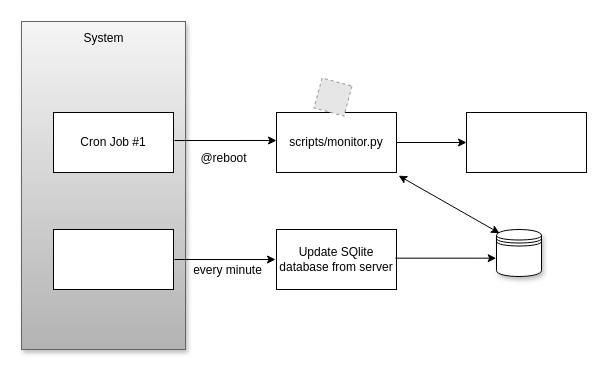
This 604x374 diagram has some shape labels left out. Grey dashed boxes stand in for pictures. The shapes that lost their labels are listed below. From the top down, each one's centre as x and y in pixels, then its label:
At pixel 526 142: "GUI".
At pixel 113 259: "Cron Job #2".
